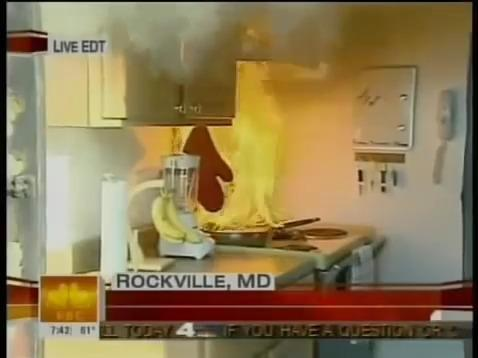fire: (180, 124, 290, 230), (234, 59, 332, 124)
